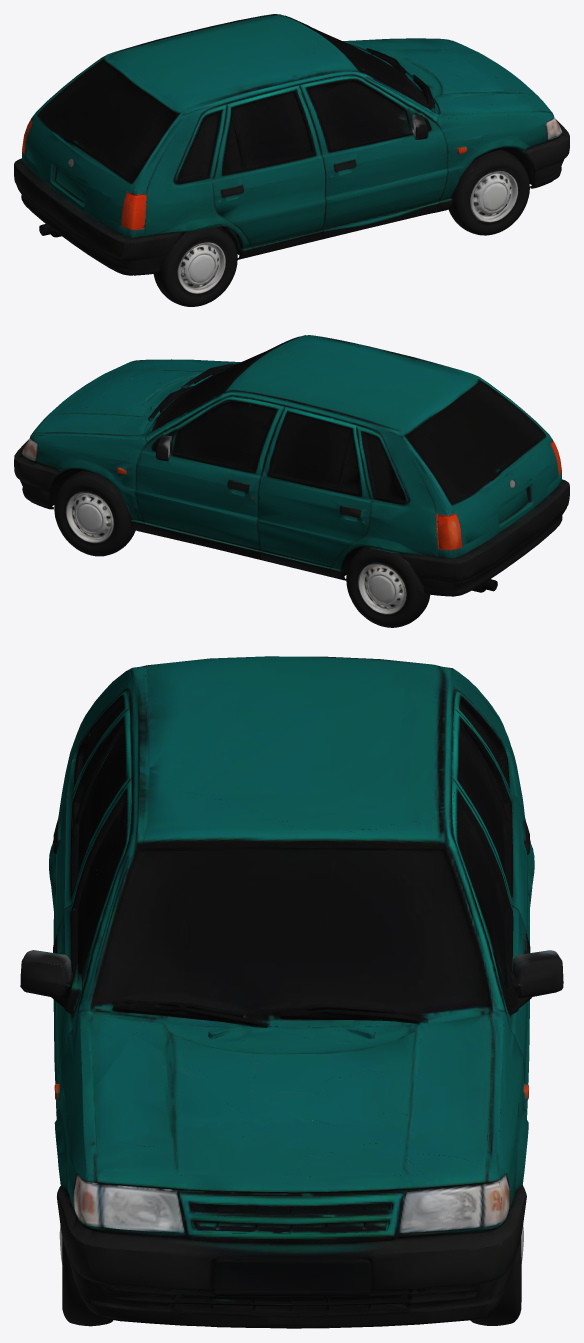
The model's file is felda.glb.
3 views of the same model, one above another, from view 1: azimuth 30°, elevation 25°; view 2: azimuth 150°, elevation 25°; view 3: azimuth 270°, elevation 25° (orthographic). The views are drawn at different scales.
Visible parts, largest first — view 1: Body, Wheel_FR, Wheel_RR; view 2: Body, Wheel_FL, Wheel_RL; view 3: Body, Wheel_FR, Wheel_FL.
Boxes of the visible parts, x1,y1,x2,y2 form: Body: (14, 14, 569, 275); Wheel_FR: (448, 149, 533, 235); Wheel_RR: (153, 224, 242, 306); Body: (14, 335, 569, 596); Wheel_FL: (51, 470, 135, 556); Wheel_RL: (341, 545, 430, 627); Body: (20, 656, 563, 1328); Wheel_FR: (59, 1225, 109, 1326); Wheel_FL: (473, 1225, 523, 1325).
Size of the model in its own units: 1 by 0.3883 by 0.4999.
1 material, 1 textured.
